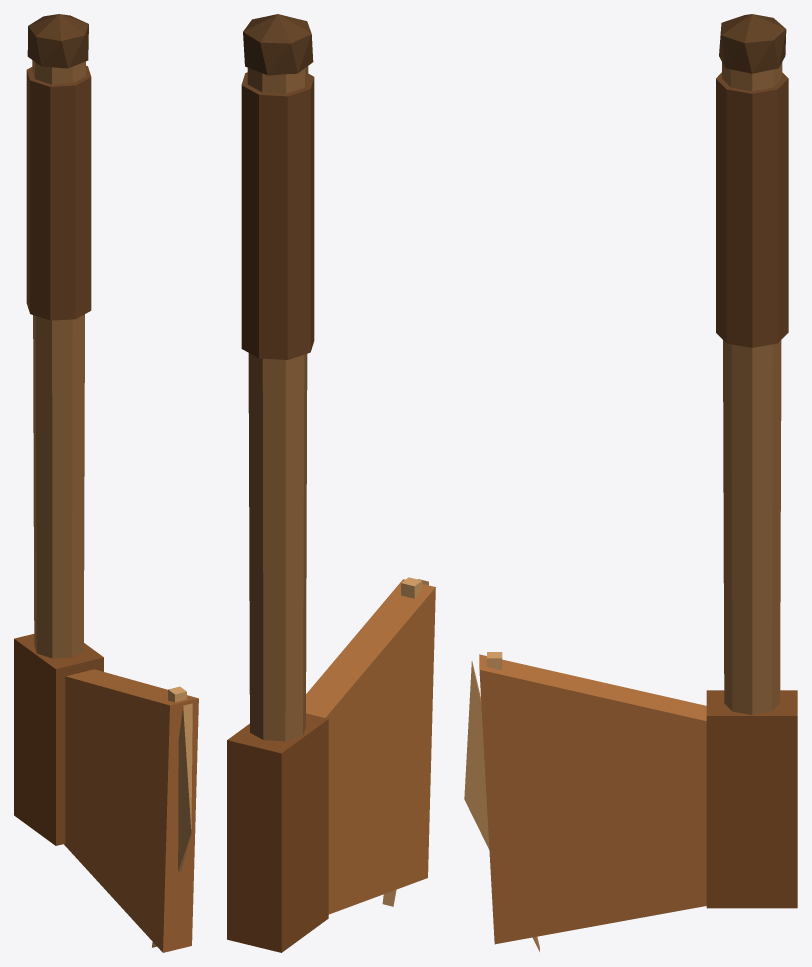
The model's file is held_bronze_hatchet.glb.
The picture shows the model from 3 angles, left to right: view 1: azimuth 30°, elevation 25°; view 2: azimuth 150°, elevation 25°; view 3: azimuth 270°, elevation 25°; orthographic projection. The views are drawn at different scales.
Visible parts, largest first — view 1: held_bronze_hatchet; view 2: held_bronze_hatchet; view 3: held_bronze_hatchet.
Boxes of the visible parts, box(x1,y1,x2,y2) form: held_bronze_hatchet: box(14, 14, 198, 952); held_bronze_hatchet: box(227, 14, 435, 952); held_bronze_hatchet: box(464, 14, 797, 951).
Size of the model in its own units: 0.048 by 0.682 by 0.22.
